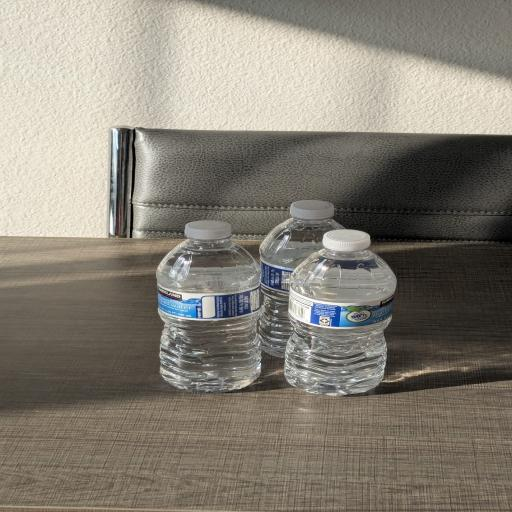waterbottle: (285, 230, 396, 395), (157, 221, 260, 392), (259, 201, 342, 357)
